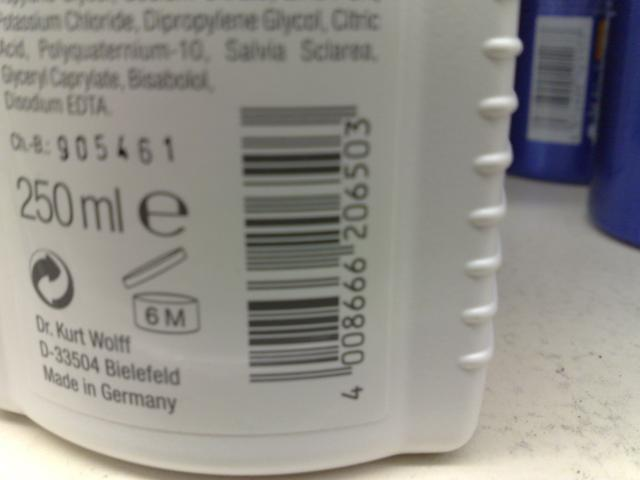Barcode: (222, 90, 386, 417)
